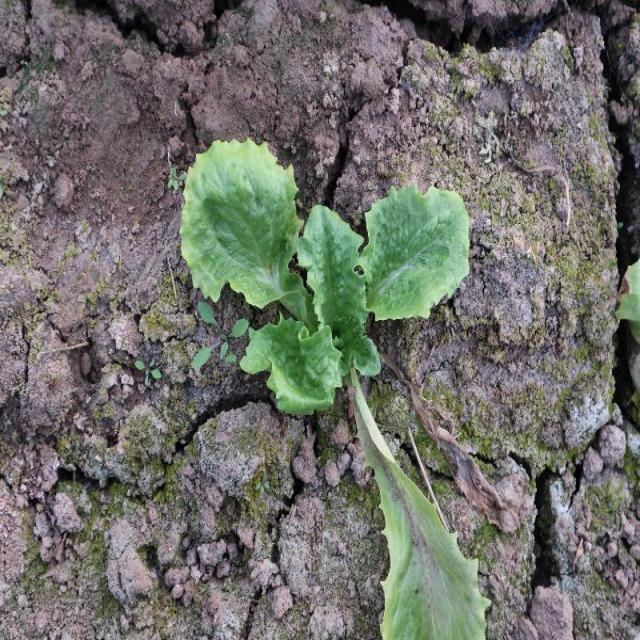crop: (178, 138, 487, 640)
